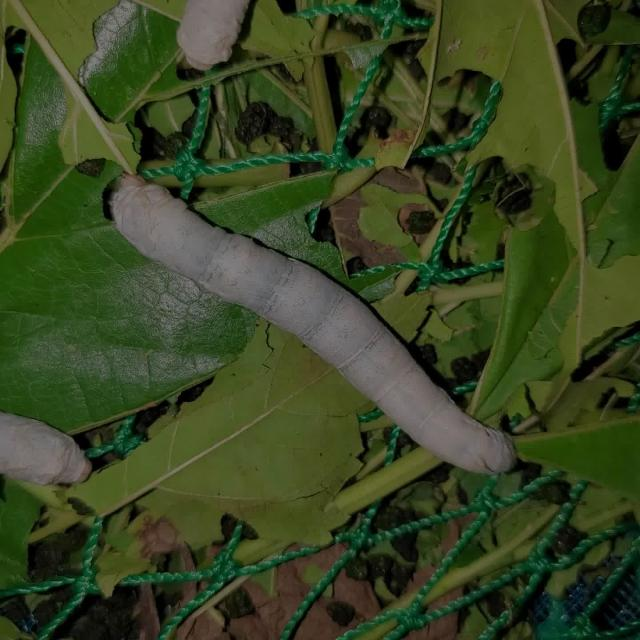Healthy: (105, 157, 532, 501)
